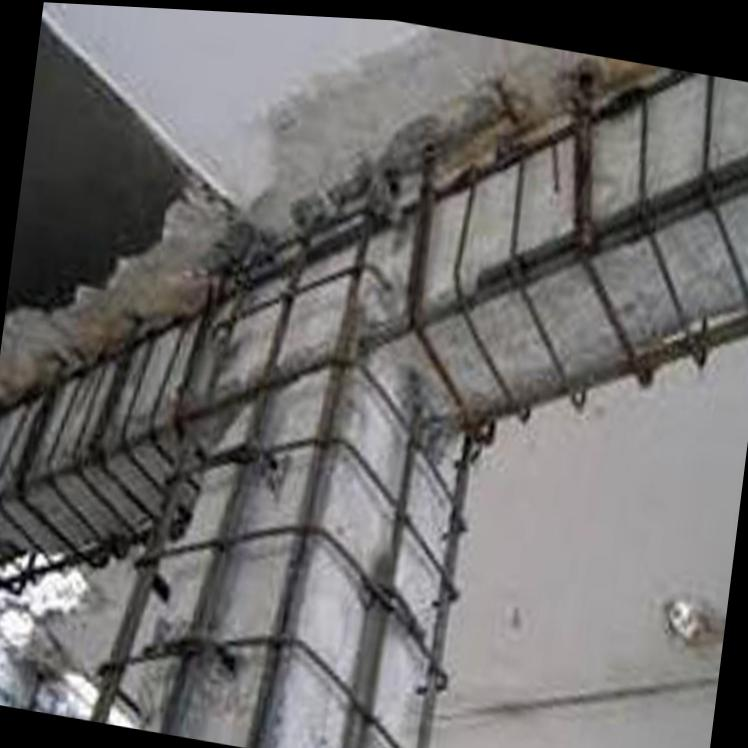damage: (0, 49, 748, 748)
